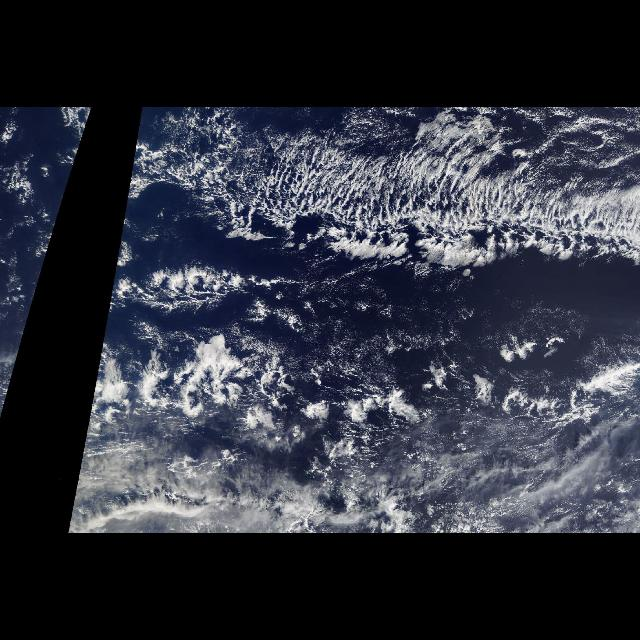Fish: (120, 108, 640, 316)
Sugar: (322, 268, 604, 382)
